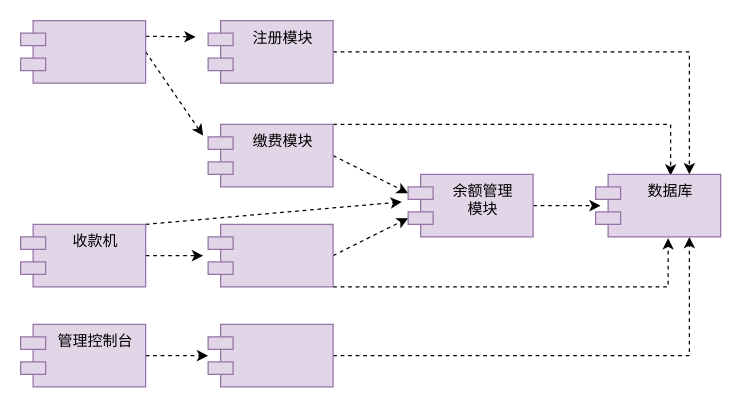
The diagram is 741 pixels wide and 408 high, and some of its shapes have lost their labels. Here are the shapes that lost their labels. From the top down, the centre of each, then its label:
At (82,51): "就餐卡".
At (270,255): "消费模块".
At (270,355): "统计模块".
